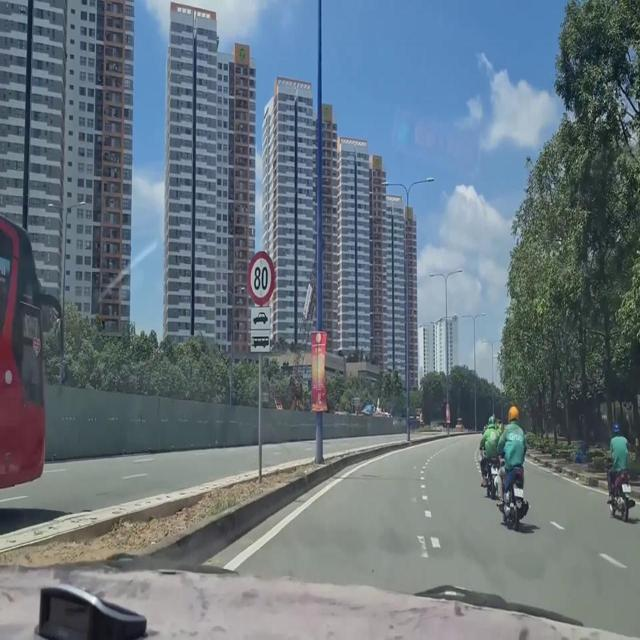Biển phụ: (249, 310, 275, 354)
Giới hạn tốc độ: 80Km/h: (244, 245, 276, 310)
